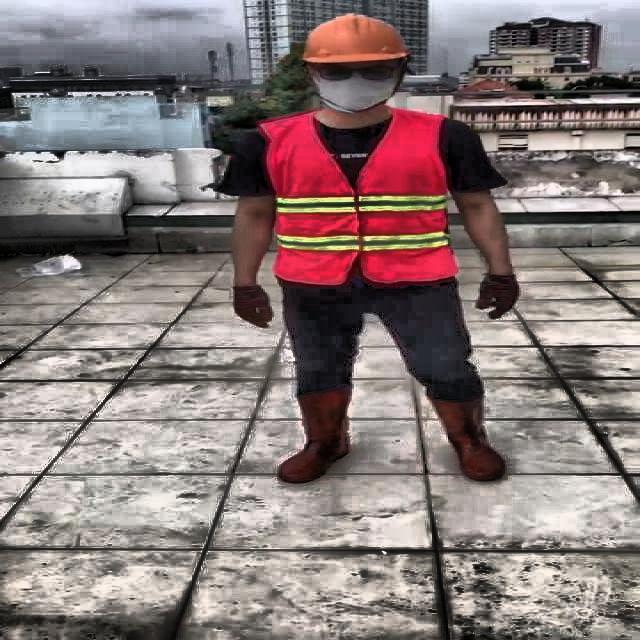safety_helmet: (298, 10, 414, 68)
safety_jacket: (265, 111, 459, 284)
